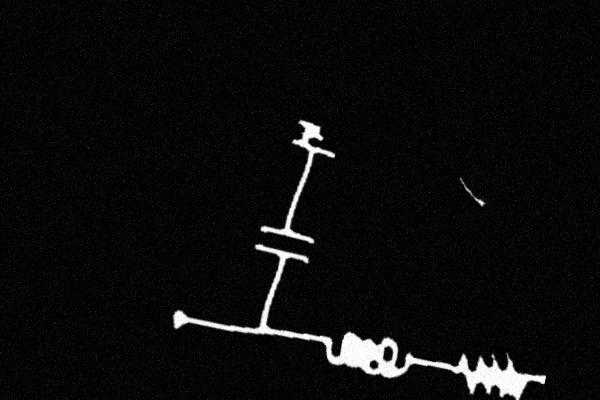capacitor: (248, 211, 321, 275)
ground: (284, 116, 344, 169)
inductor: (308, 318, 432, 393)
resistor: (438, 335, 545, 400)
